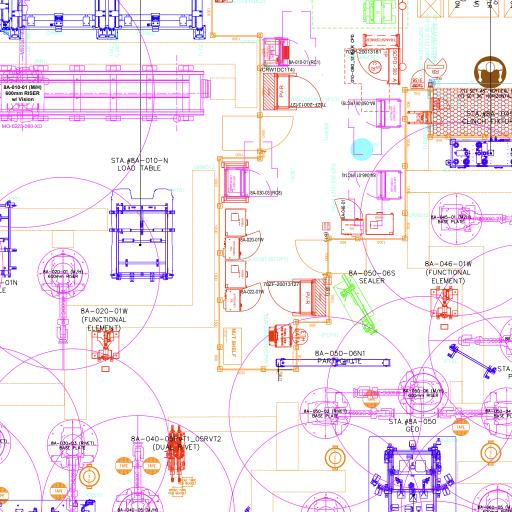robot: (34, 246, 89, 346), (299, 385, 397, 439)
